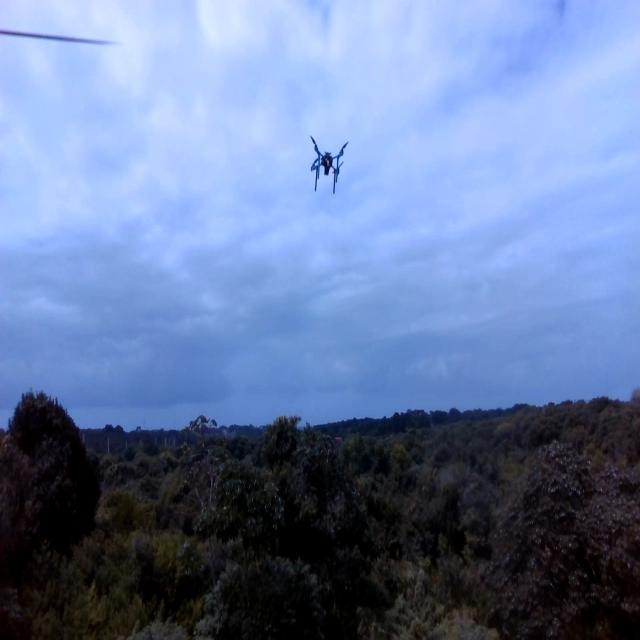-uav-: (300, 127, 355, 204)
